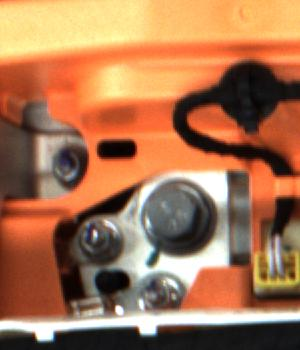nut_b: (133, 176, 215, 252)
